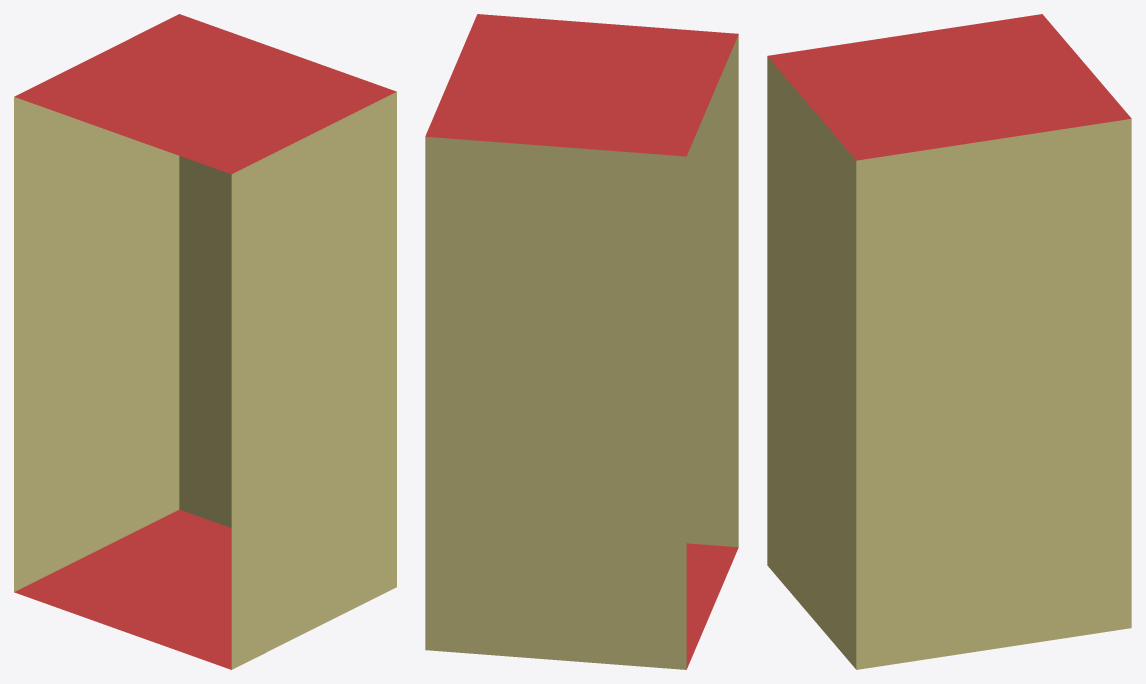
3 renders of one model, left to right at view 1: azimuth 30°, elevation 25°; view 2: azimuth 150°, elevation 25°; view 3: azimuth 270°, elevation 25°, orthographic. The views are drawn at different scales.
Visible parts, largest first — view 1: group_4, group_3, group_5; view 2: group_4, group_3, group_5; view 3: group_4, group_3.
Boxes of the visible parts, left/top/right/bottom form: group_4: left=14, top=92, right=396, bottom=669; group_3: left=14, top=14, right=396, bottom=174; group_5: left=14, top=509, right=231, bottom=669; group_4: left=425, top=35, right=738, bottom=669; group_3: left=425, top=14, right=738, bottom=156; group_5: left=686, top=543, right=738, bottom=669; group_4: left=767, top=56, right=1131, bottom=669; group_3: left=767, top=14, right=1131, bottom=160.
Size of the model in its own units: 5.71 by 6 by 9.25.
